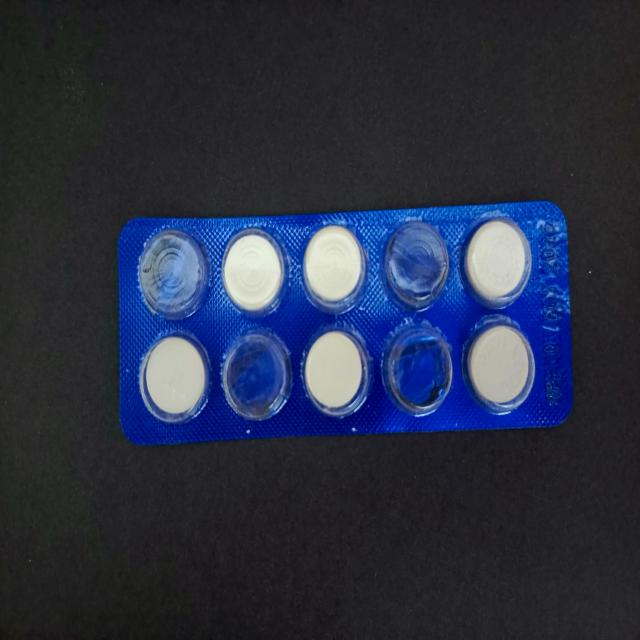defect: (219, 326, 295, 424), (380, 322, 457, 418), (137, 226, 213, 322), (378, 218, 452, 315)
